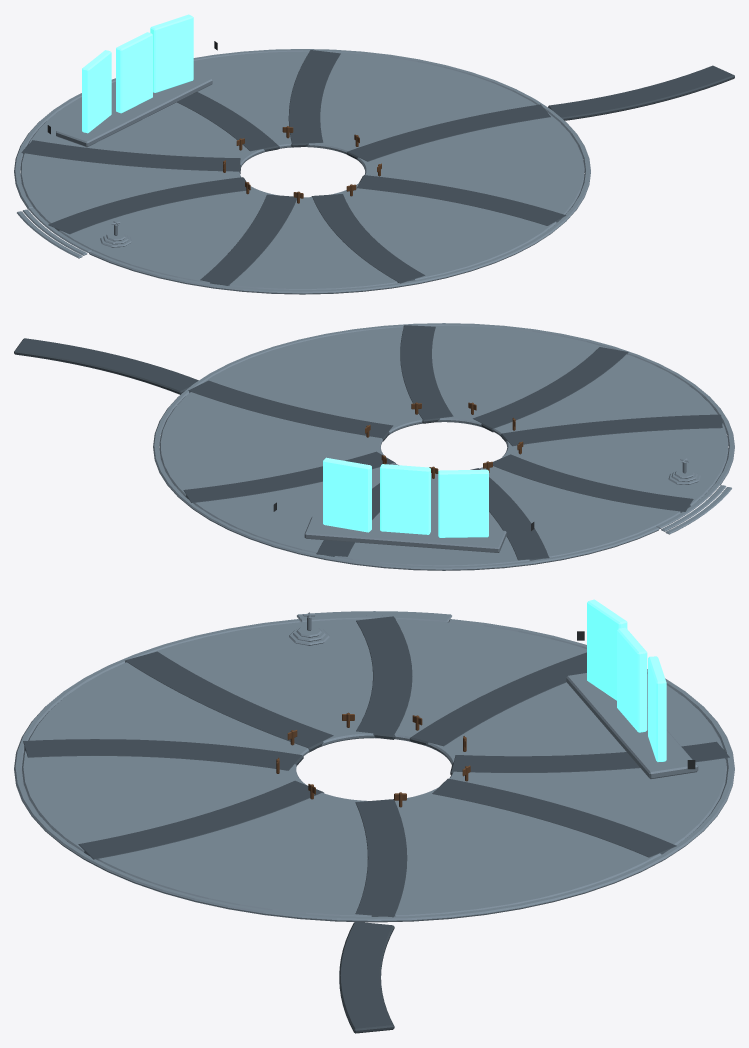
The model's file is DD_Plaza.fbx.
3 views of the same model, one above another, from view 1: azimuth 30°, elevation 25°; view 2: azimuth 150°, elevation 25°; view 3: azimuth 270°, elevation 25° (orthographic). The views are drawn at different scales.
Visible parts, largest first — view 1: DD_Struct_PlazaFloor.001, DD_Struct_PlazaStepRing.001, DD_Struct_Path_GateOuter.001, DD_Struct_Path_Gate.001, DD_Struct_Path_Plot07.001, DD_Struct_Path_Plot03.001, DD_Struct_Path_Plot04.001, DD_Struct_Path_Plot01.001, DD_Struct_Path_Plot06.001, DD_Struct_Path_Plot05.001, DD_UI_LeaderboardStele_01.001, DD_UI_LeaderboardDais.001 (+3 smaller); view 2: DD_Struct_PlazaFloor.001, DD_Struct_PlazaStepRing.001, DD_UI_LeaderboardStele_03.001, DD_UI_LeaderboardStele_02.001, DD_Struct_Path_GateOuter.001, DD_UI_LeaderboardStele_01.001, DD_Struct_Path_Plot05.001, DD_UI_LeaderboardDais.001, DD_Struct_Path_Plot04.001, DD_Struct_Path_Plot06.001, DD_Struct_Path_Gate.001, DD_Struct_Path_Plot07.001 (+3 smaller); view 3: DD_Struct_PlazaFloor.001, DD_Struct_PlazaStepRing.001, DD_Struct_Path_Plot06.001, DD_Struct_Path_Plot04.001, DD_Struct_Path_Plot01.001, DD_Struct_Path_Plot07.001, DD_Struct_Path_GateOuter.001, DD_Struct_Path_Plot05.001, DD_Struct_Path_Gate.001, DD_Struct_Path_Plot03.001, DD_Struct_Path_Plot02.001, DD_UI_LeaderboardDais.001 (+3 smaller).
Boxes of the visible parts, x1,y1,x2,y2 form: DD_Struct_PlazaFloor.001: (20, 51, 584, 289); DD_Struct_PlazaStepRing.001: (14, 49, 590, 294); DD_Struct_Path_GateOuter.001: (548, 65, 734, 120); DD_Struct_Path_Gate.001: (346, 104, 550, 161); DD_Struct_Path_Plot07.001: (357, 175, 566, 225); DD_Struct_Path_Plot03.001: (21, 140, 240, 173); DD_Struct_Path_Plot04.001: (48, 177, 250, 234); DD_Struct_Path_Plot01.001: (288, 50, 340, 147); DD_Struct_Path_Plot06.001: (311, 194, 425, 283); DD_Struct_Path_Plot05.001: (200, 194, 296, 285); DD_UI_LeaderboardStele_01.001: (150, 14, 193, 92); DD_UI_LeaderboardDais.001: (56, 72, 212, 147); DD_Struct_PlazaFloor.001: (159, 326, 728, 566); DD_Struct_PlazaStepRing.001: (153, 323, 734, 570); DD_UI_LeaderboardStele_03.001: (438, 469, 488, 537); DD_UI_LeaderboardStele_02.001: (380, 464, 430, 534); DD_Struct_Path_GateOuter.001: (14, 338, 198, 394); DD_UI_LeaderboardStele_01.001: (323, 457, 371, 532); DD_Struct_Path_Plot05.001: (500, 414, 722, 446); DD_UI_LeaderboardDais.001: (304, 516, 506, 552); DD_Struct_Path_Plot04.001: (493, 454, 693, 512); DD_Struct_Path_Plot06.001: (473, 347, 628, 432); DD_Struct_Path_Gate.001: (188, 380, 393, 441); DD_Struct_Path_Plot07.001: (400, 325, 453, 423); DD_Struct_PlazaFloor.001: (22, 619, 726, 916); DD_Struct_PlazaStepRing.001: (14, 619, 734, 922); DD_Struct_Path_Plot06.001: (23, 739, 303, 770); DD_Struct_Path_Plot04.001: (356, 616, 412, 739); DD_Struct_Path_Plot01.001: (432, 778, 676, 857); DD_Struct_Path_Plot07.001: (78, 780, 323, 860); DD_Struct_Path_GateOuter.001: (339, 922, 394, 1033); DD_Struct_Path_Plot05.001: (125, 651, 333, 752); DD_Struct_Path_Gate.001: (355, 799, 407, 917); DD_Struct_Path_Plot03.001: (409, 652, 586, 746); DD_Struct_Path_Plot02.001: (450, 741, 729, 774); DD_UI_LeaderboardDais.001: (566, 673, 698, 778).
Bounding box in the file's own units: 3.79 × 0.4035 × 2.76.
